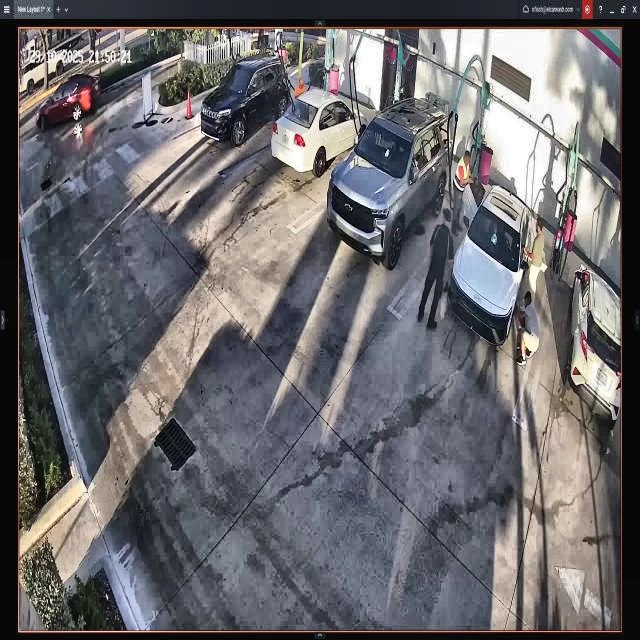Car: (329, 101, 450, 268), (449, 182, 530, 340), (270, 88, 368, 176)
